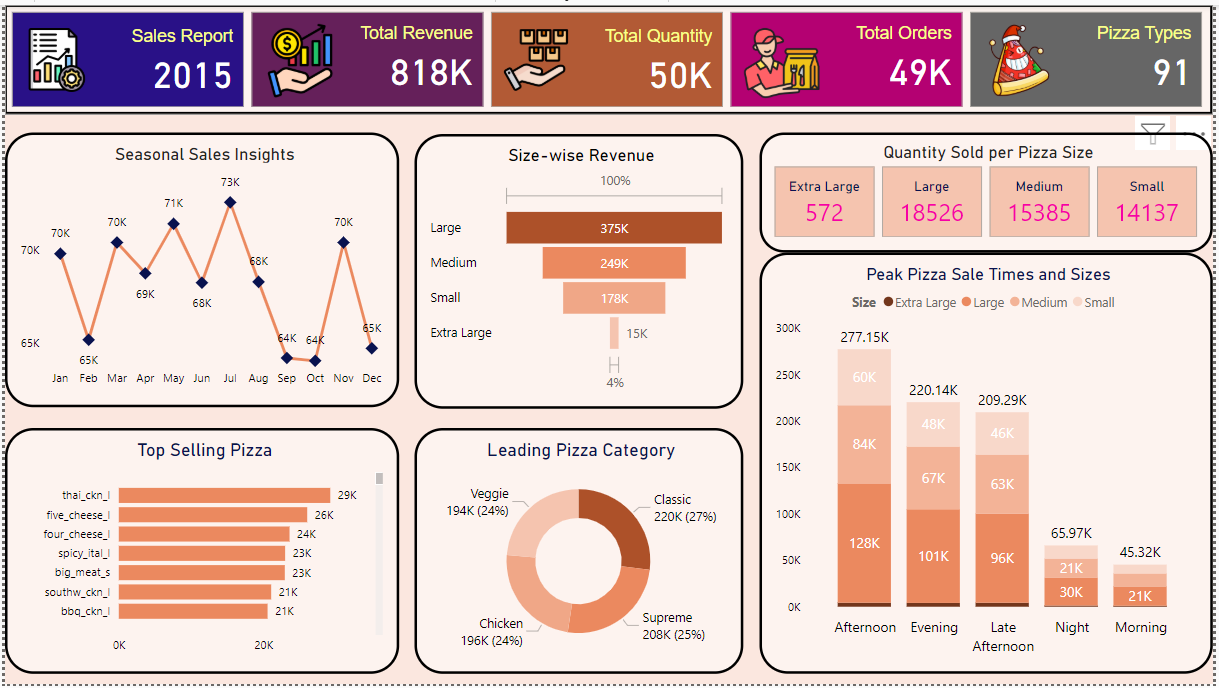

What the dashboard file says about the page in this screenshot:
{"tool":"powerbi","page":{"name":"Pizza Dashboard","canvas":[1280,720],"ordinal":0},"visuals":[{"type":"donutChart","title":"Leading Pizza Category","fields":{"Y":["Sum(order_details.Sales cost)"],"Category":["order_details.Category"]},"box":[440.6,448.6,332.4,260.9],"z":0},{"type":"clusteredBarChart","title":"Top Selling Pizza","fields":{"Y":["Sum(order_details.Sales cost)"],"Category":["order_details.pizza_id"]},"box":[12.7,448.6,418.3,260.9],"z":1000},{"type":"columnChart","title":"Peak Pizza Sales Times and Sizes","fields":{"Category":["order_details.TimeCategory"],"Series":["order_details.Size"],"Y":["Sum(order_details.Revenue Collection)"]},"box":[786.2,261,479.8,448.6],"z":2000},{"type":"cardVisual","fields":{"Data":["Measures (2).Sales Report","Measures (2).Total Revenue","Measures (2).Total Quantity","Measures (2).Total Orders","Measures (2).Pizza Types"]},"box":[0,0,1280.1,115.7],"z":3000},{"type":"advancedSlicerVisual","title":"Quantity Sold per Pizza Size","fields":{"Values":["order_details.Size"]},"box":[786.2,128.2,479.8,125],"z":4000},{"type":"lineChart","title":"Seasonal Sales Insights","fields":{"Category":["order_details.Monthno"],"Y":["Sum(order_details.Revenue Collection)"]},"box":[12.7,128.8,418.3,308.6],"z":5000},{"type":"funnel","title":"Size-wise Revenue","fields":{"Y":["Sum(order_details.Revenue Collection)"],"Category":["order_details.Size"]},"box":[440.6,128.8,332.4,308.6],"z":6000}]}

Visuals, with their boxes in screenshot pixels (x1, y1, x2, y2), scaled from the page's 1280x720 canvas onto the 1219x688 screenshot:
"Leading Pizza Category" donutChart: <box>420,429,736,678</box>
"Top Selling Pizza" clusteredBarChart: <box>12,429,410,678</box>
"Peak Pizza Sales Times and Sizes" columnChart: <box>749,249,1206,678</box>
cardVisual - Measures (2).Sales Report x Measures (2).Total Revenue: <box>0,0,1218,111</box>
"Quantity Sold per Pizza Size" advancedSlicerVisual: <box>749,123,1206,242</box>
"Seasonal Sales Insights" lineChart: <box>12,123,410,418</box>
"Size-wise Revenue" funnel: <box>420,123,736,418</box>
